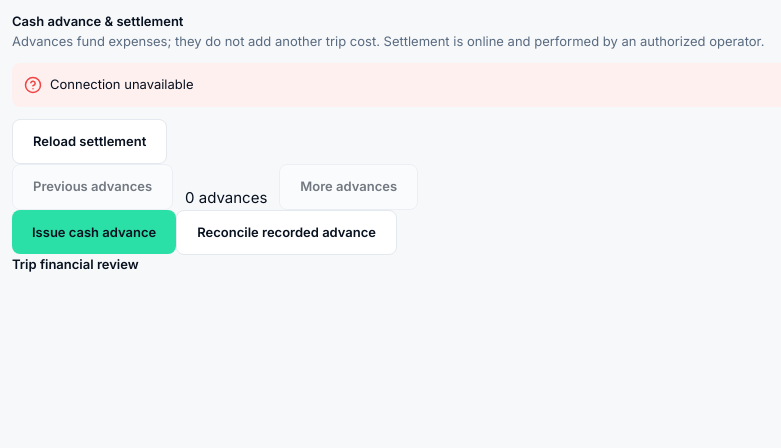
cash settlement and explicit approval › preserves native empty and error recovery states
Check: the text "Connection unavailable" is shown, box [50,75,194,94]
What coordinates should you click on to do the following:
click the button "Reload settlement"
I would click on:
 (90, 141)
Its box is [12,118,167,164].
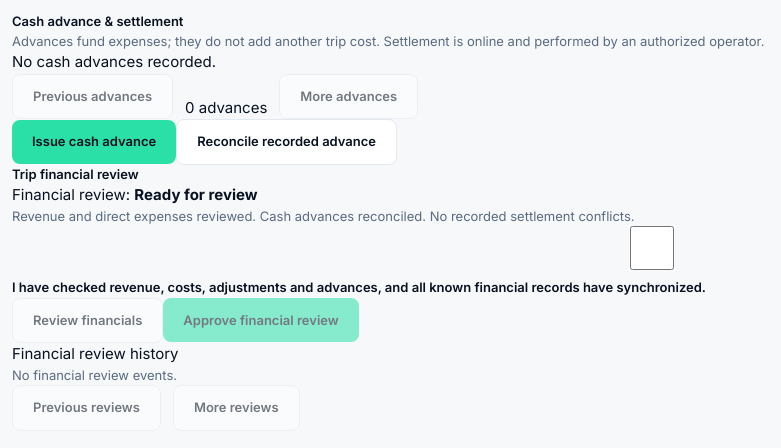
Check: the text "No cash advances recorded." is shown, box [12,52,216,71]
